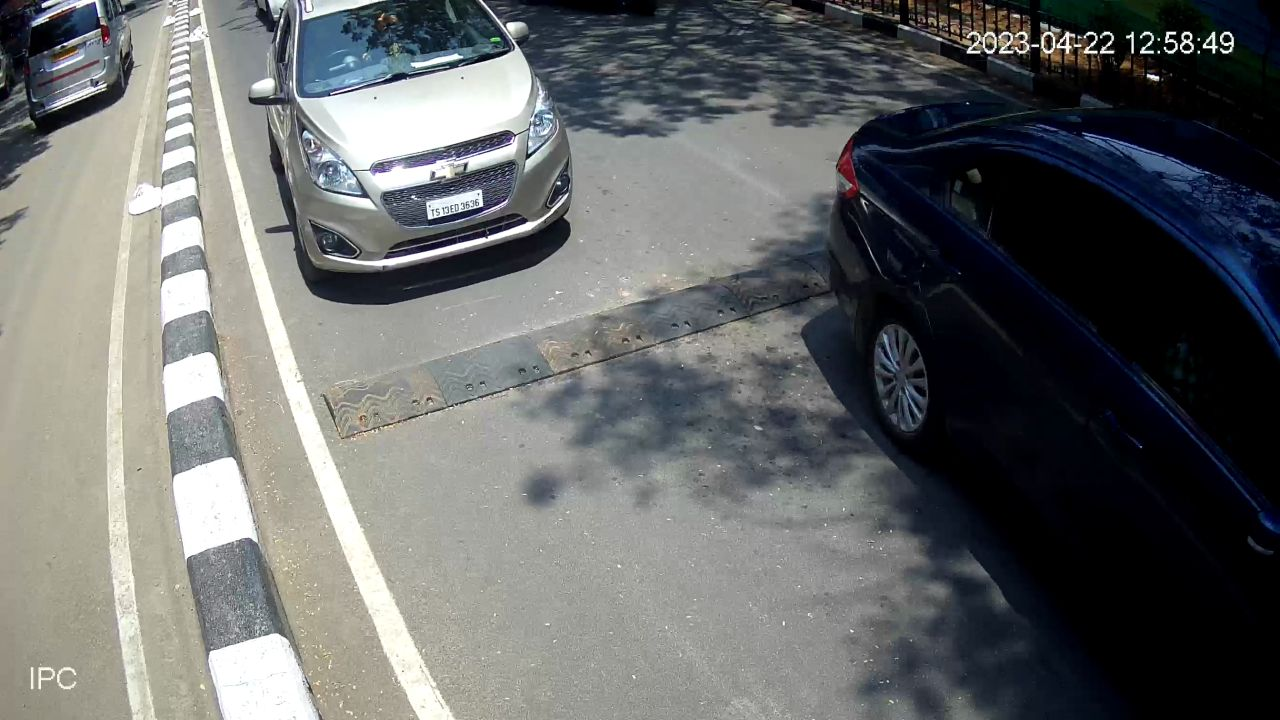license_plate: (419, 182, 489, 228)
